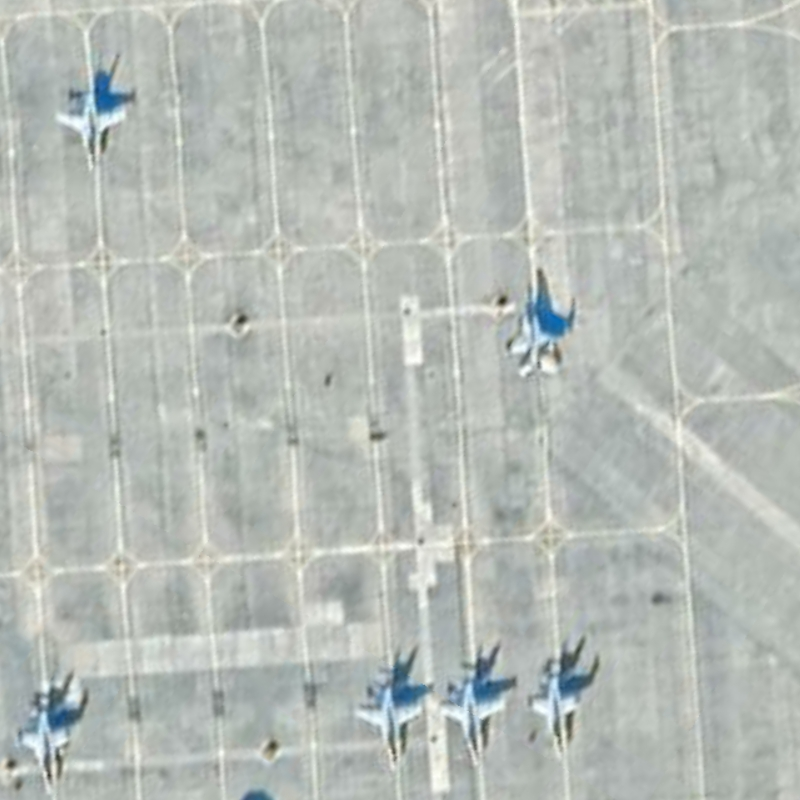A16: (46, 78, 136, 185), (348, 666, 433, 779), (7, 677, 83, 800), (498, 261, 572, 384), (439, 664, 515, 775), (522, 651, 590, 766)
